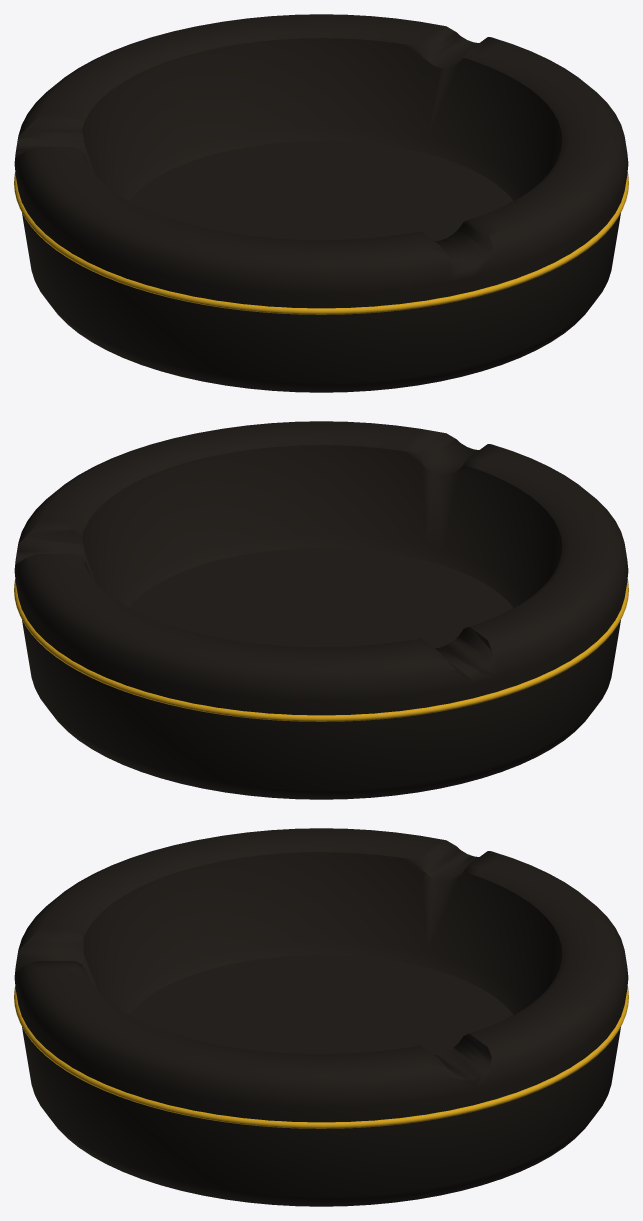
File: ashtray.glb
3 views of the same model, one above another, from view 1: azimuth 30°, elevation 25°; view 2: azimuth 150°, elevation 25°; view 3: azimuth 270°, elevation 25° (orthographic).
Visible parts, largest first — view 1: ashtray, print_front, ashtray_line; view 2: ashtray, print_front, ashtray_line; view 3: ashtray, print_front, ashtray_line.
Boxes of the visible parts, x1=… form: ashtray: x1=14, y1=14, x2=628, y2=392; print_front: x1=134, y1=146, x2=471, y2=241; ashtray_line: x1=14, y1=172, x2=628, y2=314; ashtray: x1=14, y1=421, x2=628, y2=799; print_front: x1=171, y1=553, x2=508, y2=648; ashtray_line: x1=14, y1=579, x2=628, y2=721; ashtray: x1=14, y1=828, x2=628, y2=1206; print_front: x1=184, y1=981, x2=458, y2=1055; ashtray_line: x1=14, y1=986, x2=628, y2=1128.
Size of the model in its own units: 1.16 by 0.3 by 1.16.
